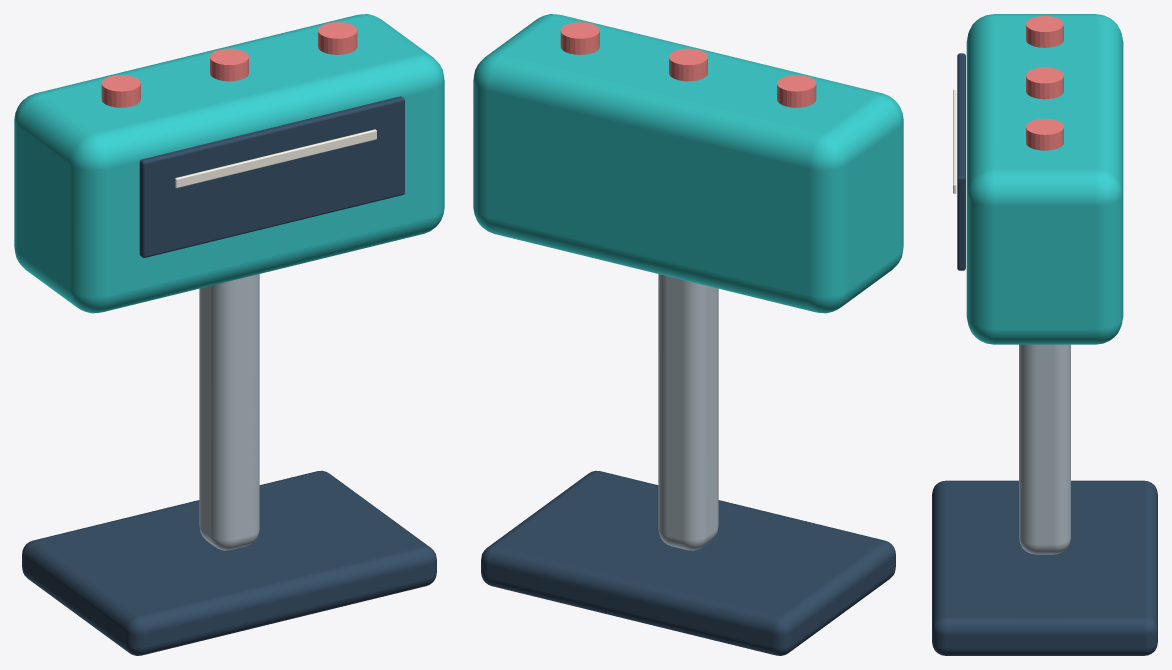
Rendered from party-obstacle-course-party-obstacle-course-timing-con-8a31e836__28945.glb.
The picture shows the model from 3 angles, left to right: view 1: azimuth 30°, elevation 25°; view 2: azimuth 150°, elevation 25°; view 3: azimuth 270°, elevation 25°; orthographic projection. The views are drawn at different scales.
Visible parts, largest first — view 1: party-obstacle-course-timing-console; view 2: party-obstacle-course-timing-console; view 3: party-obstacle-course-timing-console.
Part boxes in pixels (box(x1,y1,x2,y2)): party-obstacle-course-timing-console: box(14, 14, 444, 655); party-obstacle-course-timing-console: box(473, 14, 903, 655); party-obstacle-course-timing-console: box(932, 14, 1157, 655).
Bounding box in the file's own units: 1.2 × 1.63 × 0.6499.
